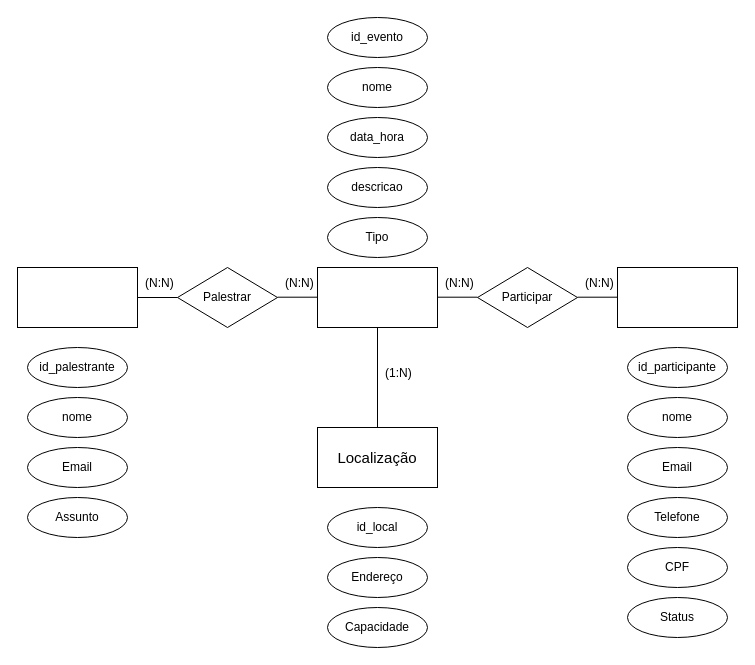
The diagram is 755 pixels wide and 665 high, and some of its shapes have lost their labels. Each missing label, with the centre of its shape:
"Evento" belongs at (x=377, y=297).
"Palestrante" belongs at (x=77, y=297).
"Participantes" belongs at (x=677, y=297).
